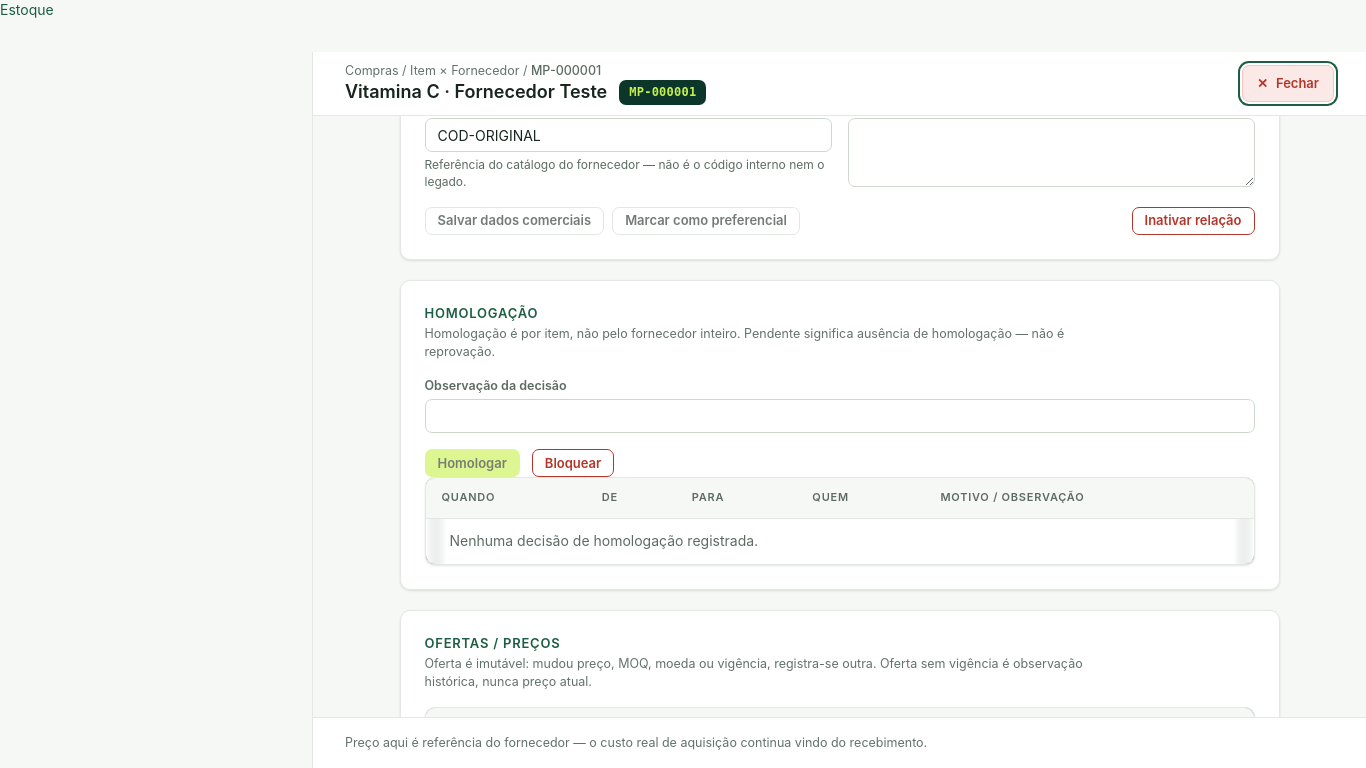
Scenario: detalhe de Item × Fornecedor — pendência por bloco › nota da qualidade escrita pergunta — ela some quando a decisão grava
The width and height of the screenshot is (1366, 768).
(page scrolled)
Expected: the heading "Vitamina C · Fornecedor Teste" is shown, [345,81,607,104]
Type "Laudo conferido" into the field labelled "Observação da decisão" at {"x": 840, "y": 416}, box [424,399,1254,433]
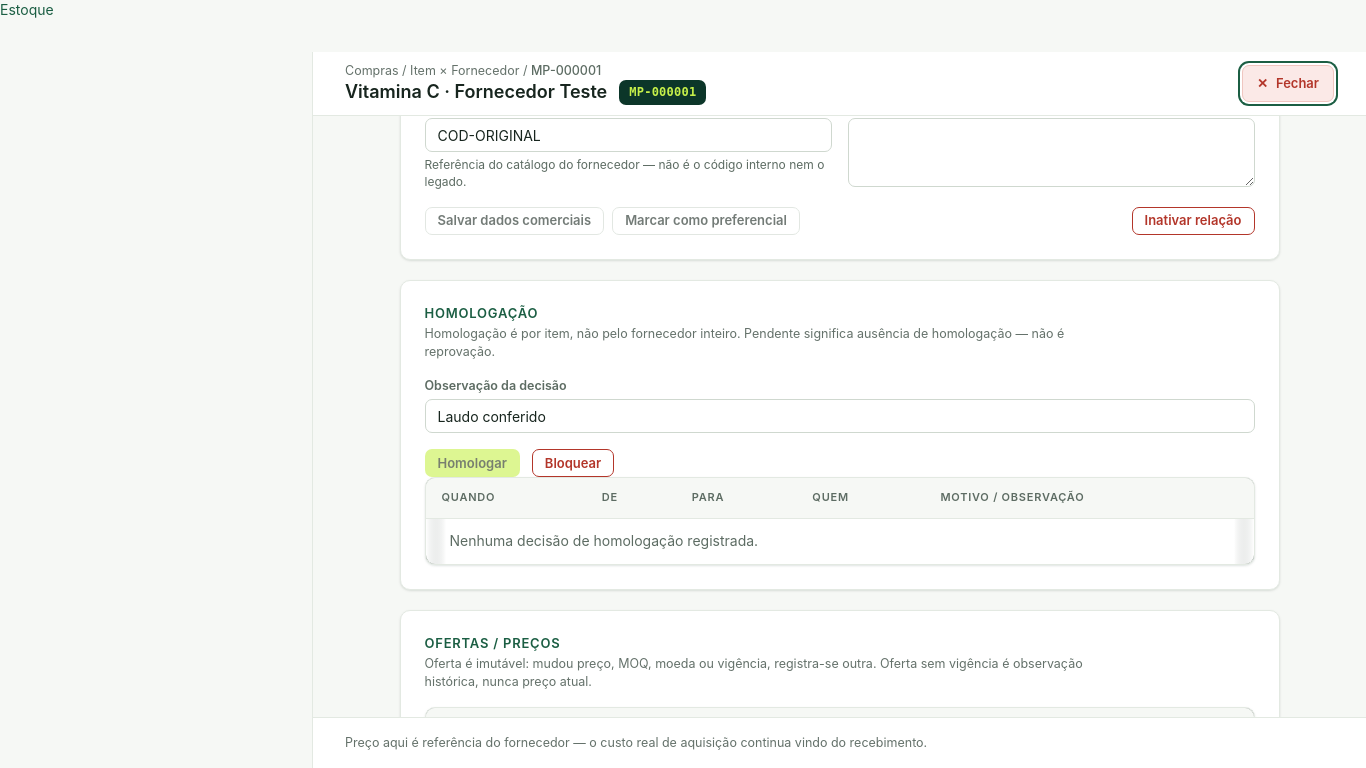
Click the link "Estoque" at {"x": 27, "y": 10}, box [0,1,54,18]
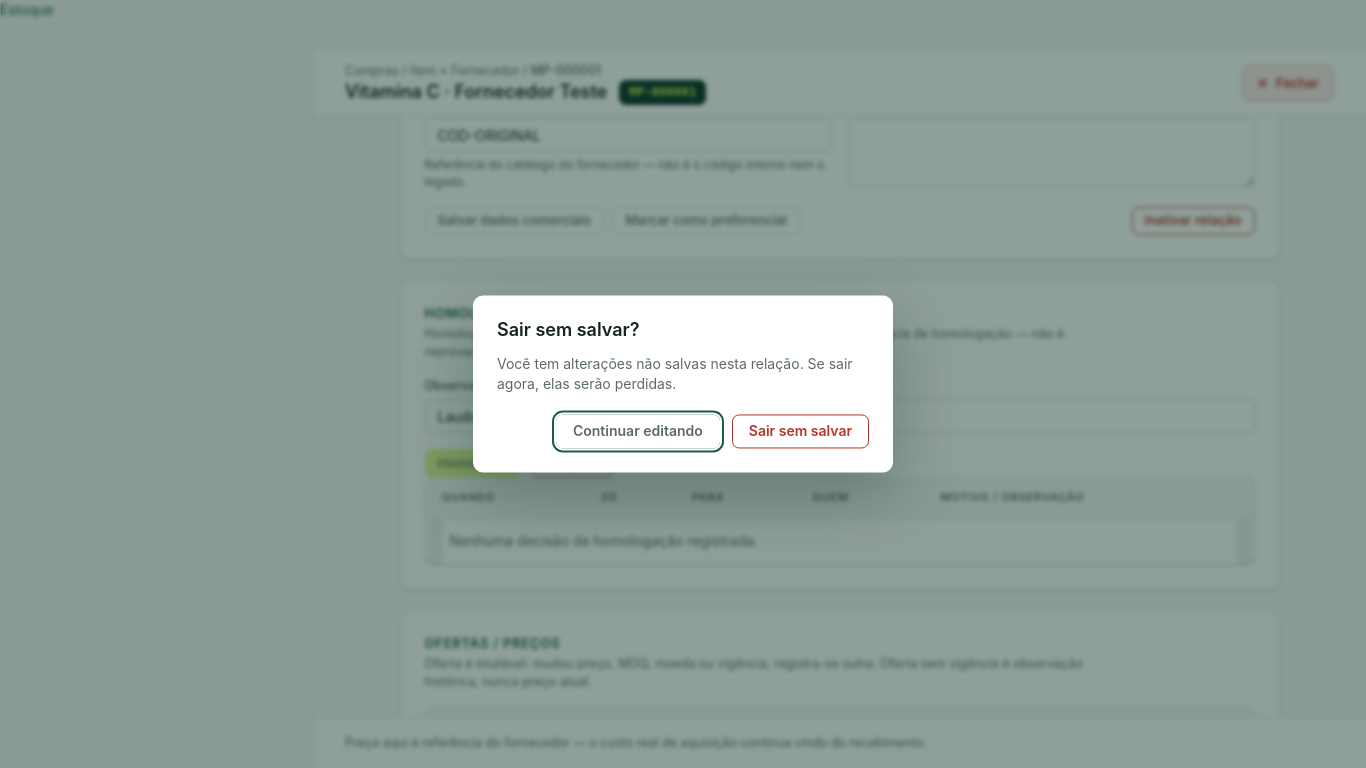
Expected: the heading "Sair sem salvar?" is shown, [497,320,640,340]
